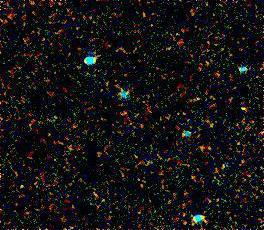star: (231, 93, 261, 123)
